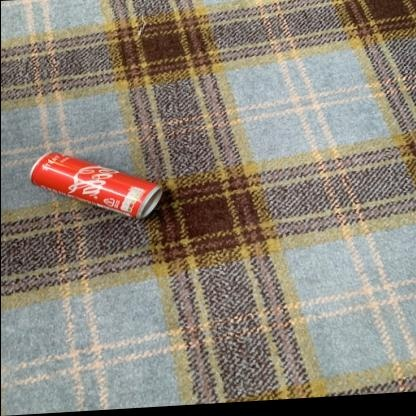trash: (31, 152, 161, 217)
